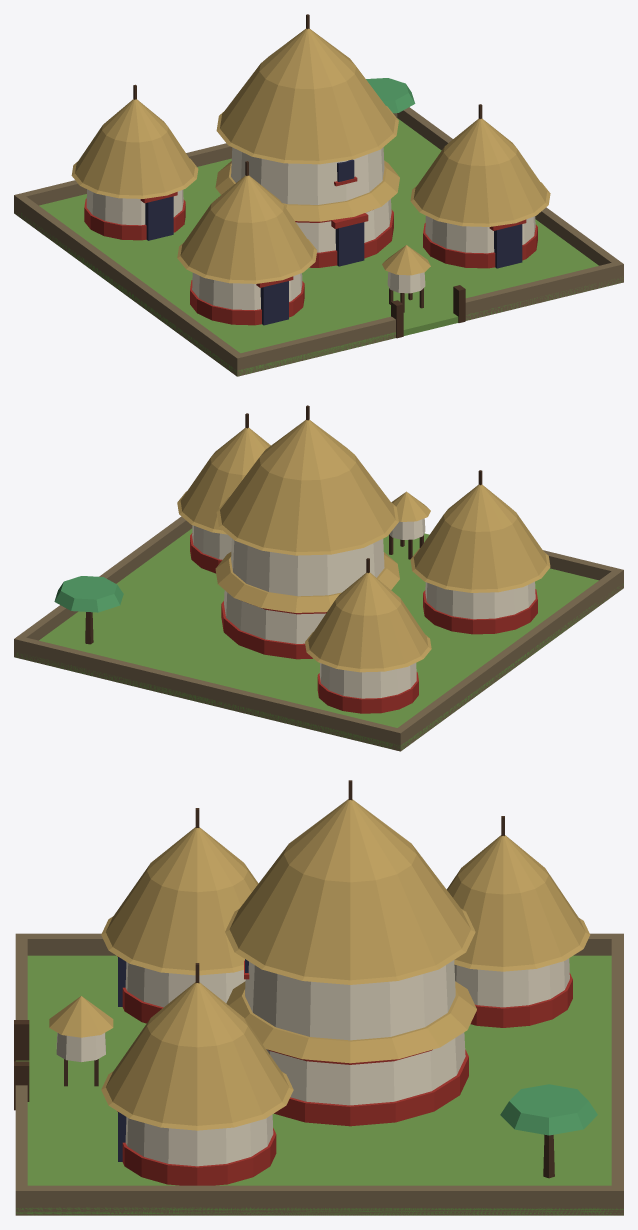
File: house-2x2-2f-rondavel-a.glb
3 renders of one model, top to bottom at view 1: azimuth 30°, elevation 25°; view 2: azimuth 150°, elevation 25°; view 3: azimuth 270°, elevation 25°, orthographic. The views are drawn at different scales.
Visible parts, largest first — view 1: house-2x2-2f-rondavel-a; view 2: house-2x2-2f-rondavel-a; view 3: house-2x2-2f-rondavel-a.
Part boxes in pixels (left/top/right/bottom): house-2x2-2f-rondavel-a: left=14, top=14, right=623, bottom=376; house-2x2-2f-rondavel-a: left=14, top=405, right=623, bottom=751; house-2x2-2f-rondavel-a: left=14, top=780, right=623, bottom=1215.
Size of the model in its own units: 1.99 by 1.11 by 2.
1 material, 1 textured.
